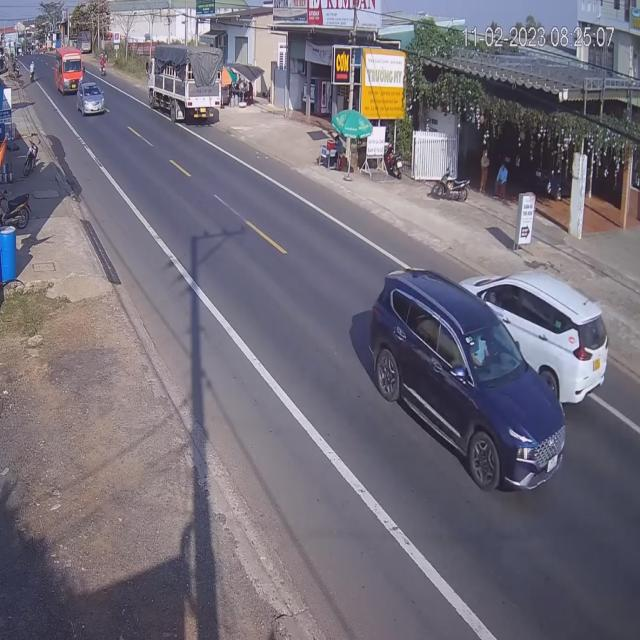bus: (54, 46, 83, 91)
car: (371, 272, 550, 482), (476, 262, 609, 397), (78, 83, 108, 118)
truck: (150, 43, 223, 125)
